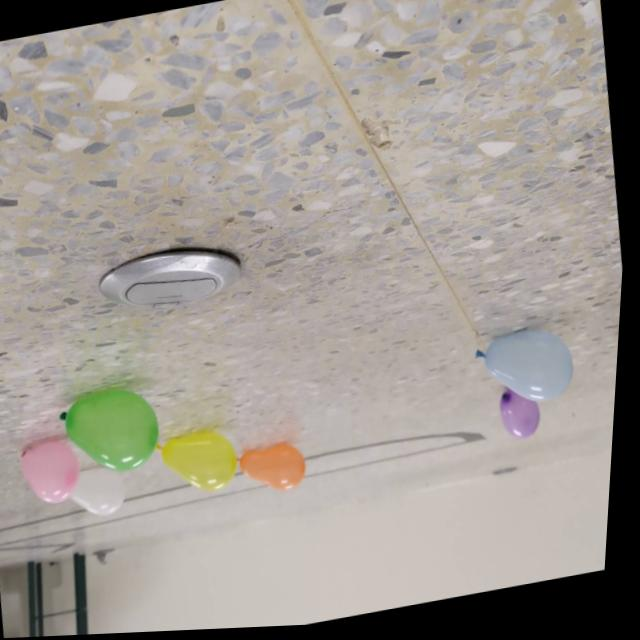other: (58, 383, 171, 485), (474, 326, 584, 418), (157, 428, 250, 504), (23, 438, 93, 511), (240, 444, 316, 503), (74, 464, 138, 525), (499, 392, 550, 451)
